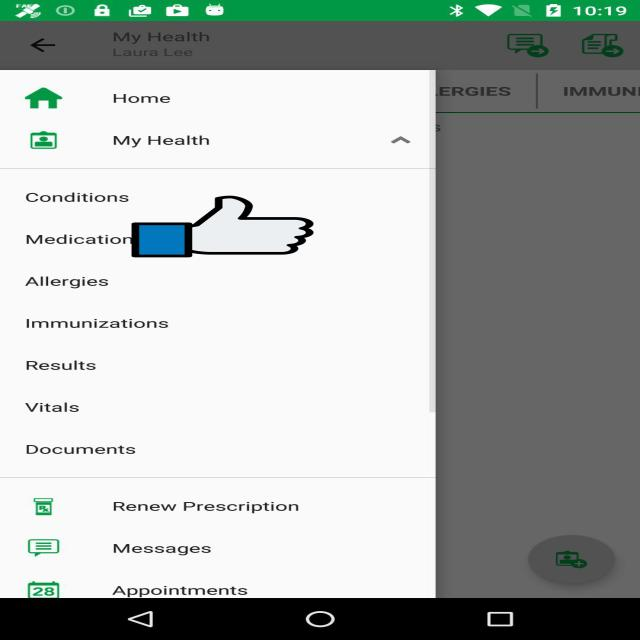privacy zuckering: (132, 194, 314, 259)
